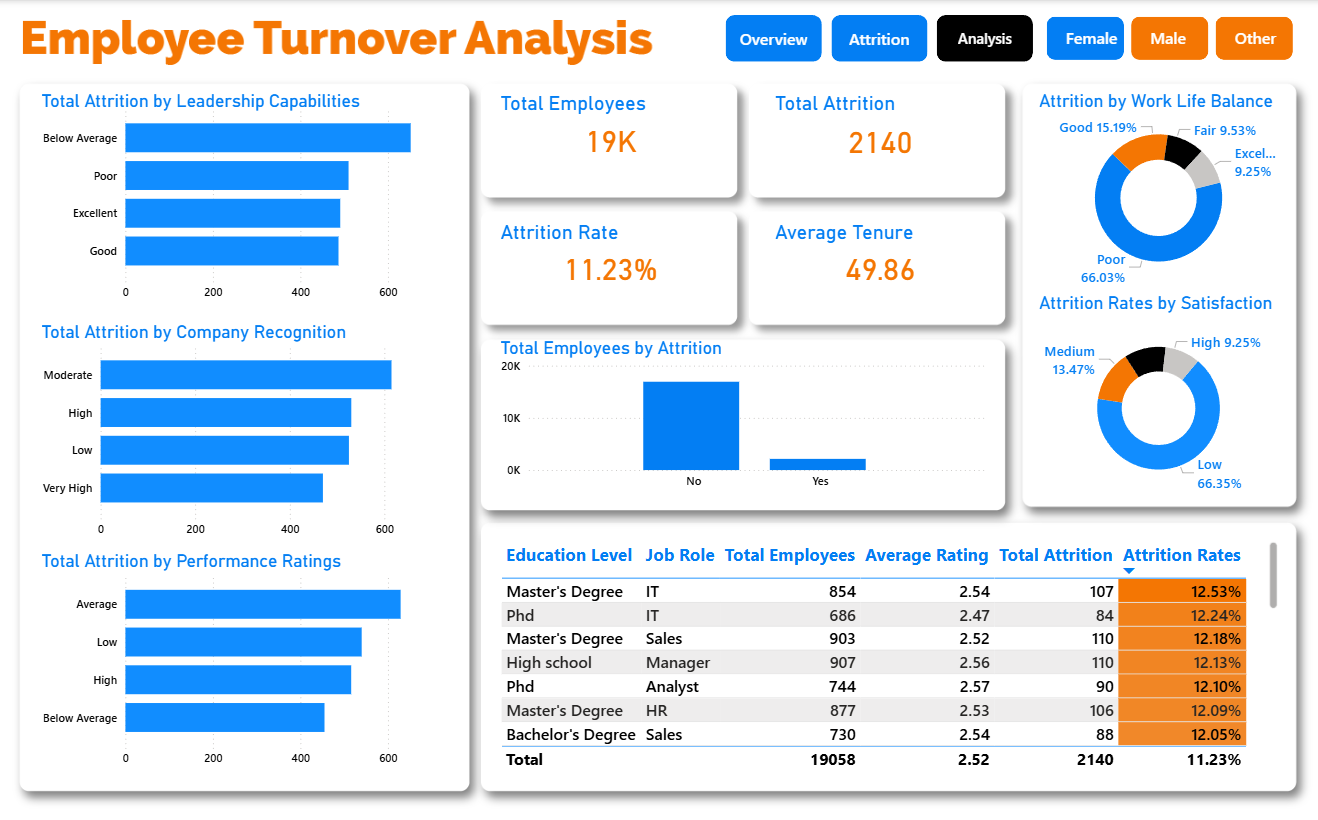

The page's visual inventory and layout, read from the dashboard file:
{"tool":"powerbi","page":{"name":" Analysis ","canvas":[1440,900],"ordinal":2},"visuals":[{"type":"card","fields":{"Values":["public employee_attrition_dataset.total_employee"]},"box":[542.9,108.2,249.5,86.2],"z":0},{"type":"card","fields":{"Values":["public employee_attrition_dataset.total_attrition"]},"box":[841.5,103.9,238.5,95.4],"z":1000},{"type":"card","fields":{"Values":["public employee_attrition_dataset.attrition_rate"]},"box":[543.4,243.6,248.7,95.4],"z":2000},{"type":"card","fields":{"Values":["public employee_attrition_dataset.avg_tenure"]},"box":[841.5,243.6,238.5,95.4],"z":3000},{"type":"textbox","box":[542.9,95.4,249.5,56.9],"z":4000},{"type":"textbox","box":[841.9,95.4,238.5,56.9],"z":5000},{"type":"textbox","box":[542.9,234.8,249.5,56.9],"z":6000},{"type":"textbox","box":[841.9,234.8,238.5,56.9],"z":7000},{"type":"advancedSlicerVisual","fields":{"Values":["public employee_attrition_dataset.Gender"]},"box":[1136.9,13,278.2,57.5],"z":8000},{"type":"pageNavigator","box":[791.9,16.7,337.5,51.9],"z":9000},{"type":"tableEx","fields":{"Values":["public employee_attrition_dataset.Education Level","public employee_attrition_dataset.Job Role","public employee_attrition_dataset.total_employee","Avg(public employee_attrition_dataset.Performance Rating)","public employee_attrition_dataset.total_attrition","public employee_attrition_dataset.attrition_rate"]},"box":[542.9,585.1,856.6,258.6],"z":10000},{"type":"clusteredColumnChart","fields":{"Category":["public employee_attrition_dataset.Attrition"],"Y":["public employee_attrition_dataset.total_employee"]},"box":[542.9,383.4,537.4,157.7],"z":11000},{"type":"donutChart","fields":{"Y":["public employee_attrition_dataset.total_attrition"],"Category":["public employee_attrition_dataset.Work-Life Balance Label"]},"box":[1129.9,113.7,269.6,201.8],"z":12000},{"type":"donutChart","fields":{"Y":["public employee_attrition_dataset.attrition_rate"],"Category":["public employee_attrition_dataset.Job Satisfaction Label"]},"box":[1129.9,348.5,269.6,192.6],"z":13000},{"type":"textbox","box":[1129.9,313.7,284.3,40.4],"z":14000},{"type":"textbox","box":[542.9,363.2,497.1,40.4],"z":15000},{"type":"textbox","box":[1129.9,93.5,271.5,34.9],"z":16000},{"type":"textbox","box":[42.2,93.5,427.4,38.5],"z":17000},{"type":"clusteredBarChart","fields":{"Category":["public employee_attrition_dataset.Leadership Label"],"Y":["public employee_attrition_dataset.total_attrition"]},"box":[42.2,104.6,445.7,231.1],"z":18000},{"type":"clusteredBarChart","fields":{"Y":["public employee_attrition_dataset.total_attrition"],"Category":["public employee_attrition_dataset.Performance Rating Label"]},"box":[42.2,612.6,445.7,231.1],"z":19000},{"type":"clusteredBarChart","fields":{"Category":["public employee_attrition_dataset.Recognition Label"],"Y":["public employee_attrition_dataset.total_attrition"]},"box":[42.2,363.2,445.7,231.1],"z":20000},{"type":"textbox","box":[42.2,594.3,427.4,38.5],"z":21000},{"type":"textbox","box":[42.2,344.8,427.4,38.5],"z":22000}]}

Visuals, with their boxes in screenshot pixels (x1, y1, x2, y2), scaled from the page's 1440x900 canvas onto the 1318x820 screenshot:
card - public employee_attrition_dataset.total_employee: select_region(497, 99, 725, 177)
card - public employee_attrition_dataset.total_attrition: select_region(770, 95, 988, 182)
card - public employee_attrition_dataset.attrition_rate: select_region(497, 222, 725, 309)
card - public employee_attrition_dataset.avg_tenure: select_region(770, 222, 988, 309)
textbox: select_region(497, 87, 725, 139)
textbox: select_region(771, 87, 989, 139)
textbox: select_region(497, 214, 725, 266)
textbox: select_region(771, 214, 989, 266)
advancedSlicerVisual - public employee_attrition_dataset.Gender: select_region(1041, 12, 1295, 64)
pageNavigator: select_region(725, 15, 1034, 63)
tableEx - public employee_attrition_dataset.Education Level x public employee_attrition_dataset.Job Role: select_region(497, 533, 1281, 769)
clusteredColumnChart - public employee_attrition_dataset.Attrition x public employee_attrition_dataset.total_employee: select_region(497, 349, 989, 493)
donutChart - public employee_attrition_dataset.total_attrition x public employee_attrition_dataset.Work-Life Balance Label: select_region(1034, 104, 1281, 287)
donutChart - public employee_attrition_dataset.attrition_rate x public employee_attrition_dataset.Job Satisfaction Label: select_region(1034, 318, 1281, 493)
textbox: select_region(1034, 286, 1294, 323)
textbox: select_region(497, 331, 952, 368)
textbox: select_region(1034, 85, 1283, 117)
textbox: select_region(39, 85, 430, 120)
clusteredBarChart - public employee_attrition_dataset.Leadership Label x public employee_attrition_dataset.total_attrition: select_region(39, 95, 447, 306)
clusteredBarChart - public employee_attrition_dataset.total_attrition x public employee_attrition_dataset.Performance Rating Label: select_region(39, 558, 447, 769)
clusteredBarChart - public employee_attrition_dataset.Recognition Label x public employee_attrition_dataset.total_attrition: select_region(39, 331, 447, 541)
textbox: select_region(39, 541, 430, 577)
textbox: select_region(39, 314, 430, 349)
